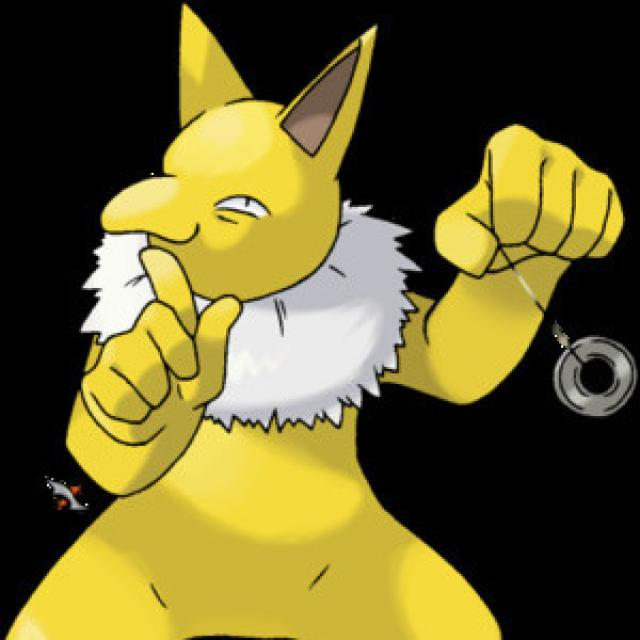Hypno: (60, 0, 623, 640)
